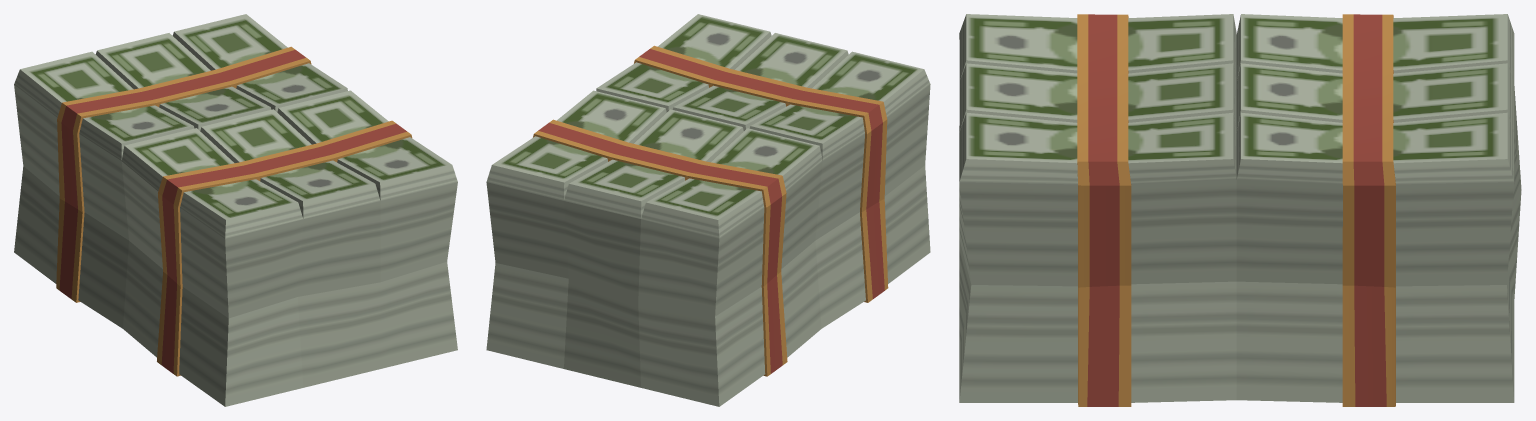
The model's file is SM_Prop_Money_Stack_07.obj.
3 renders of one model, left to right at view 1: azimuth 30°, elevation 25°; view 2: azimuth 150°, elevation 25°; view 3: azimuth 270°, elevation 25°, orthographic. The views are drawn at different scales.
Parts seen in each view (by area): view 1: SM_Prop_Money_Stack_07_0; view 2: SM_Prop_Money_Stack_07_0; view 3: SM_Prop_Money_Stack_07_0.
Part boxes in pixels (left/top/right/bottom): SM_Prop_Money_Stack_07_0: left=14, top=14, right=457, bottom=406; SM_Prop_Money_Stack_07_0: left=486, top=14, right=930, bottom=406; SM_Prop_Money_Stack_07_0: left=959, top=14, right=1521, bottom=406.
Size of the model in its own units: 0.3663 by 0.2738 by 0.5702.
1 material, 1 textured.
